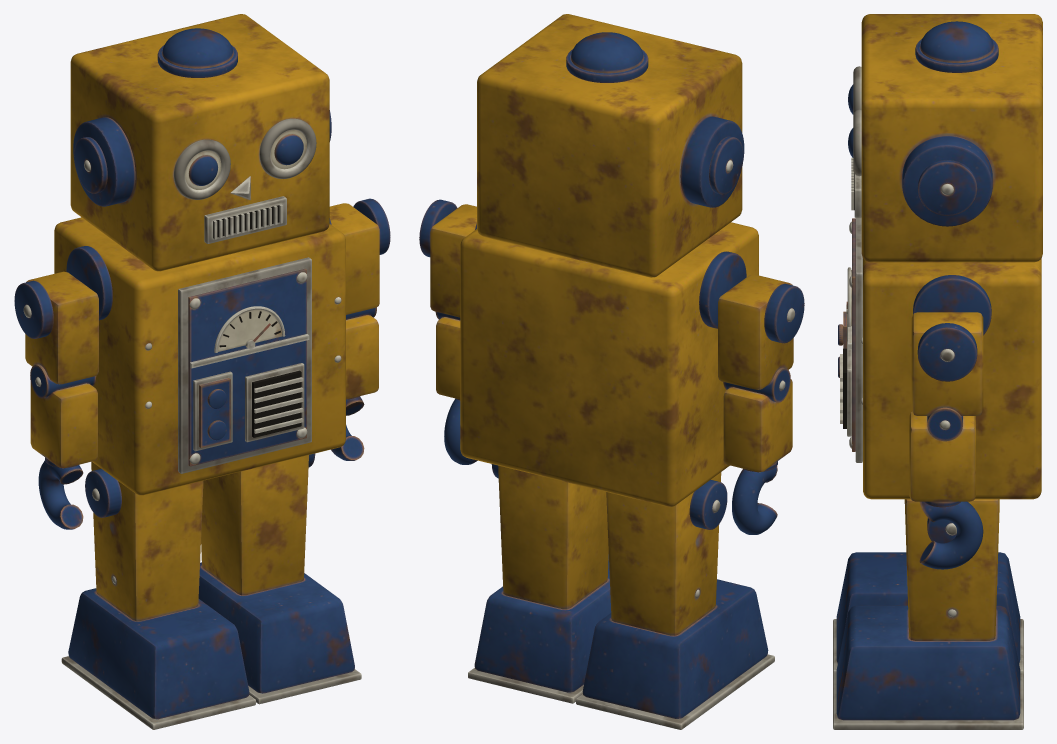
File: robot_amarillo.obj
3 renders of one model, left to right at view 1: azimuth 30°, elevation 25°; view 2: azimuth 150°, elevation 25°; view 3: azimuth 270°, elevation 25°, orthographic. The views are drawn at different scales.
Parts seen in each view (by area): view 1: Robot; view 2: Robot; view 3: Robot.
Boxes of the visible parts, x1=… form: Robot: x1=14, y1=14, x2=390, y2=729; Robot: x1=419, y1=14, x2=804, y2=729; Robot: x1=833, y1=14, x2=1042, y2=729.
Size of the model in its own units: 0.178 by 0.3013 by 0.088.
Materials: 1 (1 with a texture image).
